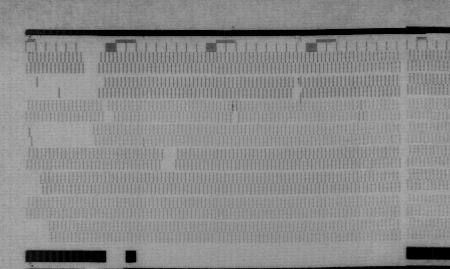Broken hole: (25, 74, 106, 101), (27, 122, 97, 149), (26, 217, 53, 244), (25, 168, 44, 198), (80, 51, 102, 76), (159, 147, 178, 172), (101, 100, 117, 123), (230, 110, 240, 124)
Oblique printing: (290, 78, 305, 102), (298, 159, 310, 172)
